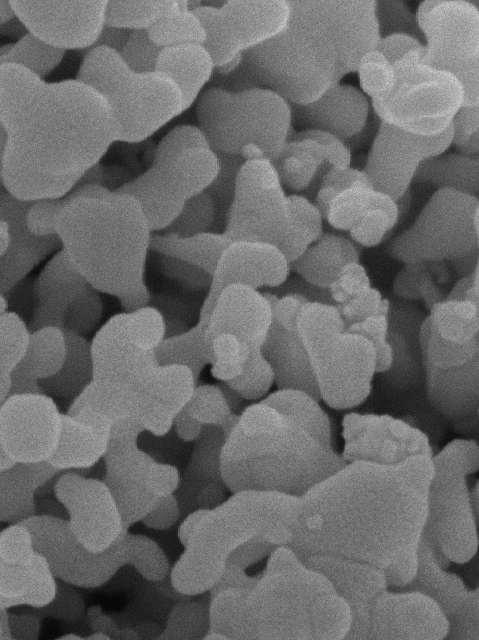nano: (301, 507, 328, 536)
